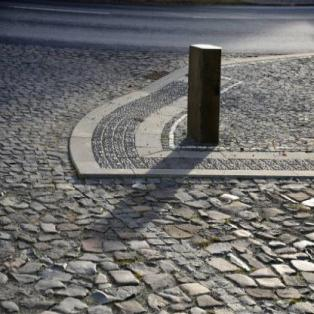Podoctatil: (62, 58, 314, 194)
